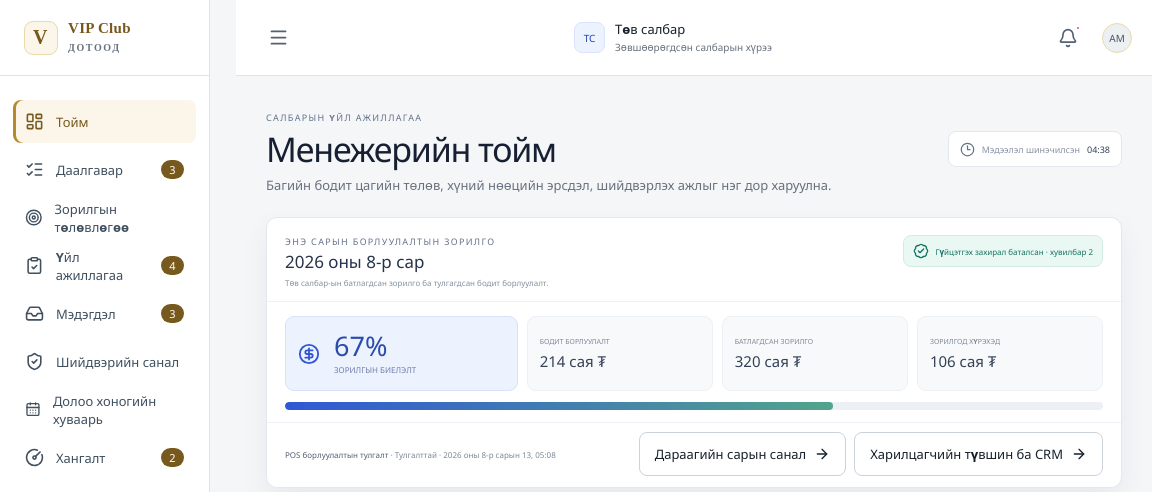
Test: WeeklySchedulePage › opens on the manager branch sales goal with CEO approval and CRM access
Expected: the heading "Менежерийн тойм" is shown, [266,126,556,172]
Expected: the heading "2026 оны 8-р сар" is shown, [285,250,424,273]
Click the button "Харилцагчийн түвшин ба CRM" at point(979, 454), box [854,432,1103,476]
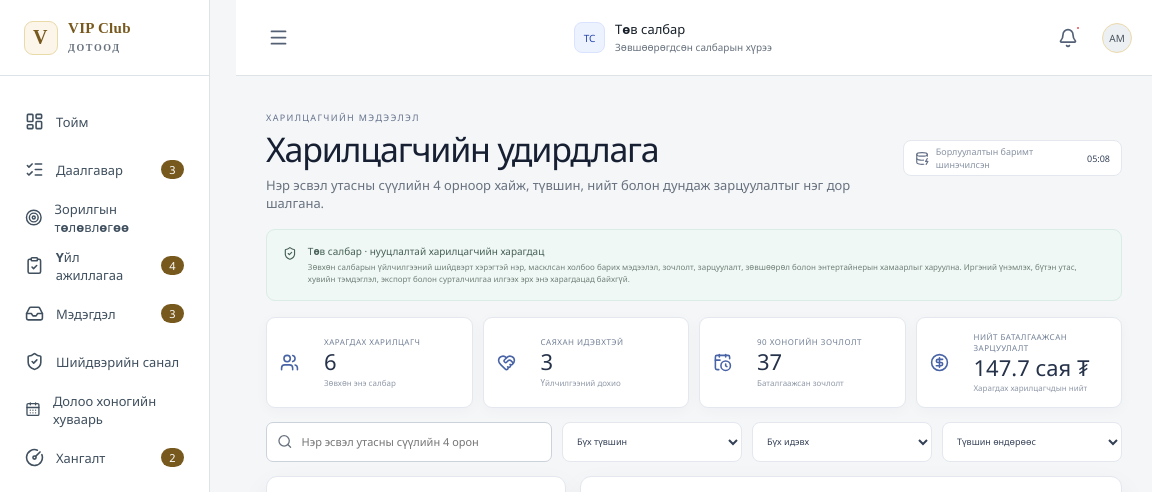
Expected: the heading "Харилцагчийн удирдлага" is shown, [266,126,658,172]
